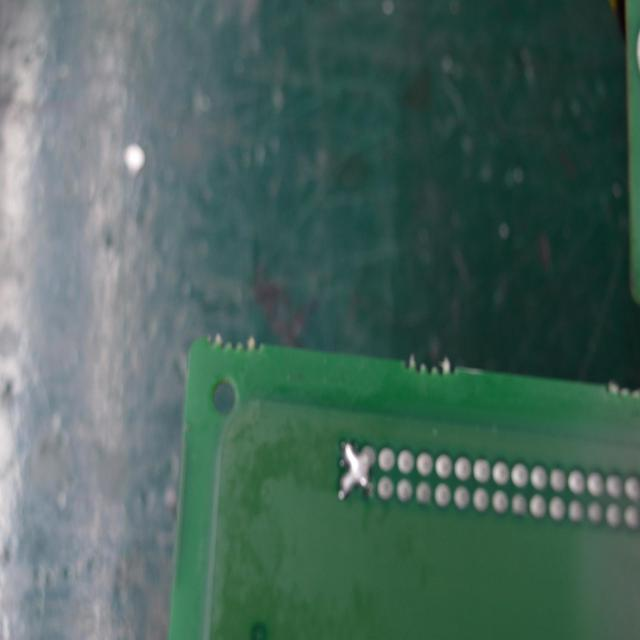Short_circuit: (344, 439, 377, 504)
